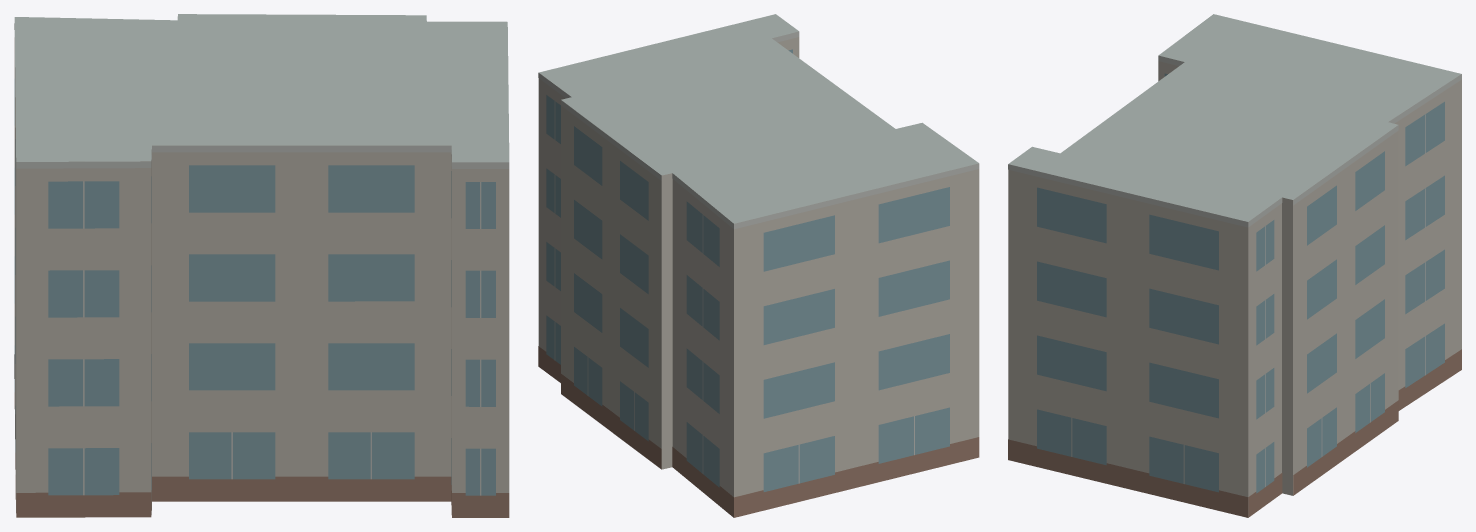
The model's file is survey-upis-32706588.glb.
3 views of the same model, side by side, from view 1: azimuth 30°, elevation 25°; view 2: azimuth 150°, elevation 25°; view 3: azimuth 270°, elevation 25° (orthographic). The views are drawn at different scales.
Parts seen in each view (by area): view 1: survey-upis-32706588.tmp; view 2: survey-upis-32706588.tmp; view 3: survey-upis-32706588.tmp.
Boxes of the visible parts, box(x1,y1,x2,y2) form: survey-upis-32706588.tmp: box(14, 14, 509, 517); survey-upis-32706588.tmp: box(538, 14, 979, 517); survey-upis-32706588.tmp: box(1008, 14, 1461, 517).
Size of the model in its own units: 19.61 by 13 by 18.08.
